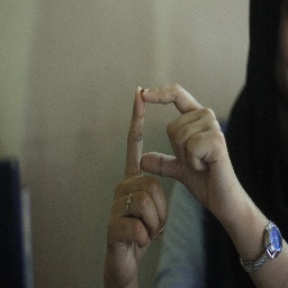D: (121, 80, 223, 196)
